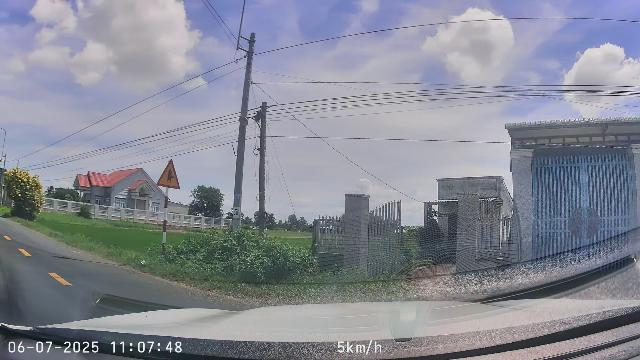207-giao-nhau-voi-duong-khong-uu-tien: (158, 159, 180, 189)
